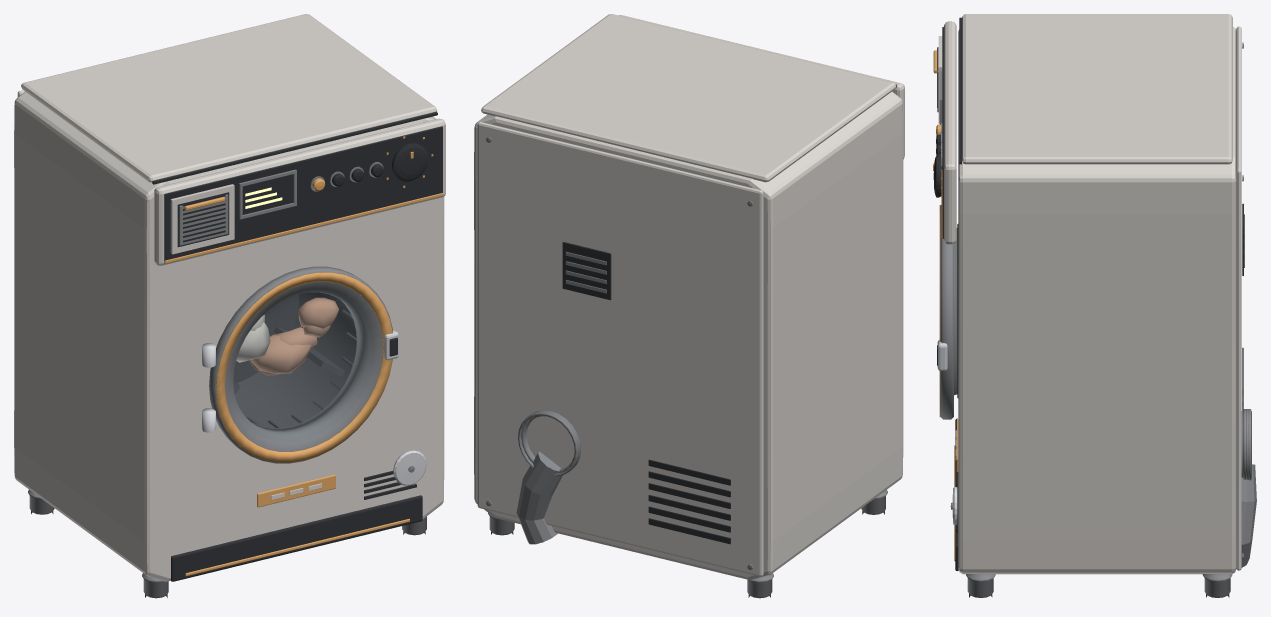
Rendered from DryerDetailed.fbx.
3 views of the same model, side by side, from view 1: azimuth 30°, elevation 25°; view 2: azimuth 150°, elevation 25°; view 3: azimuth 270°, elevation 25° (orthographic). The views are drawn at different scales.
Visible parts, largest first — view 1: Dryer_Body, Dryer_Panel, Dryer_Glass, Dryer_Metal, Dryer_Accent, Dryer_Drum, Dryer_Cloth, Dryer_Chrome, Dryer_ClothAlt; view 2: Dryer_Body, Dryer_Metal, Dryer_Panel; view 3: Dryer_Body, Dryer_Metal, Dryer_Panel, Dryer_Accent, Dryer_Chrome.
Part boxes in pixels (box(x1,y1,x2,y2)): Dryer_Body: box(14, 14, 445, 581); Dryer_Panel: box(152, 112, 442, 581); Dryer_Glass: box(232, 290, 374, 442); Dryer_Metal: box(28, 162, 426, 598); Dryer_Accent: box(164, 136, 443, 576); Dryer_Drum: box(233, 292, 356, 427); Dryer_Cloth: box(249, 297, 338, 375); Dryer_Chrome: box(202, 330, 426, 485); Dryer_ClothAlt: box(236, 314, 270, 362); Dryer_Body: box(474, 14, 904, 580); Dryer_Metal: box(486, 137, 887, 598); Dryer_Panel: box(562, 84, 896, 544); Dryer_Body: box(938, 14, 1241, 574); Dryer_Metal: box(937, 42, 1256, 597); Dryer_Panel: box(933, 17, 1243, 570); Dryer_Accent: box(933, 50, 958, 561); Dryer_Chrome: box(937, 339, 957, 525).
Bounding box in the file's own units: 0.8 × 1.1 × 0.7223.
